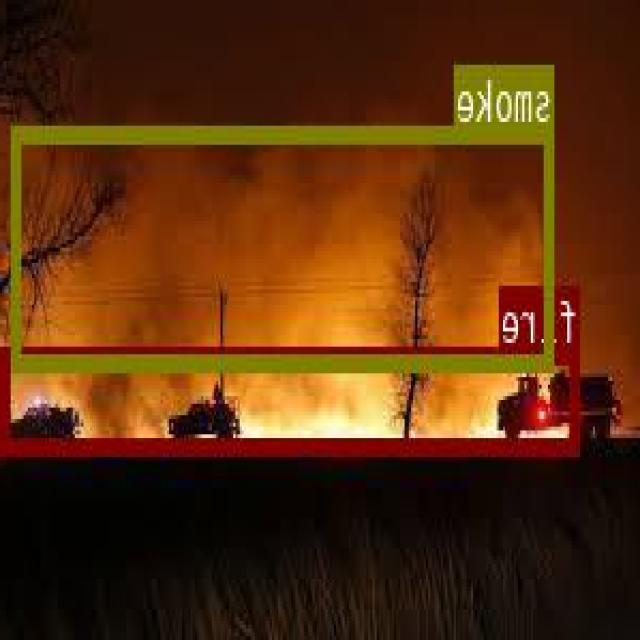fire: (4, 346, 582, 449)
smoke: (14, 122, 555, 367)
